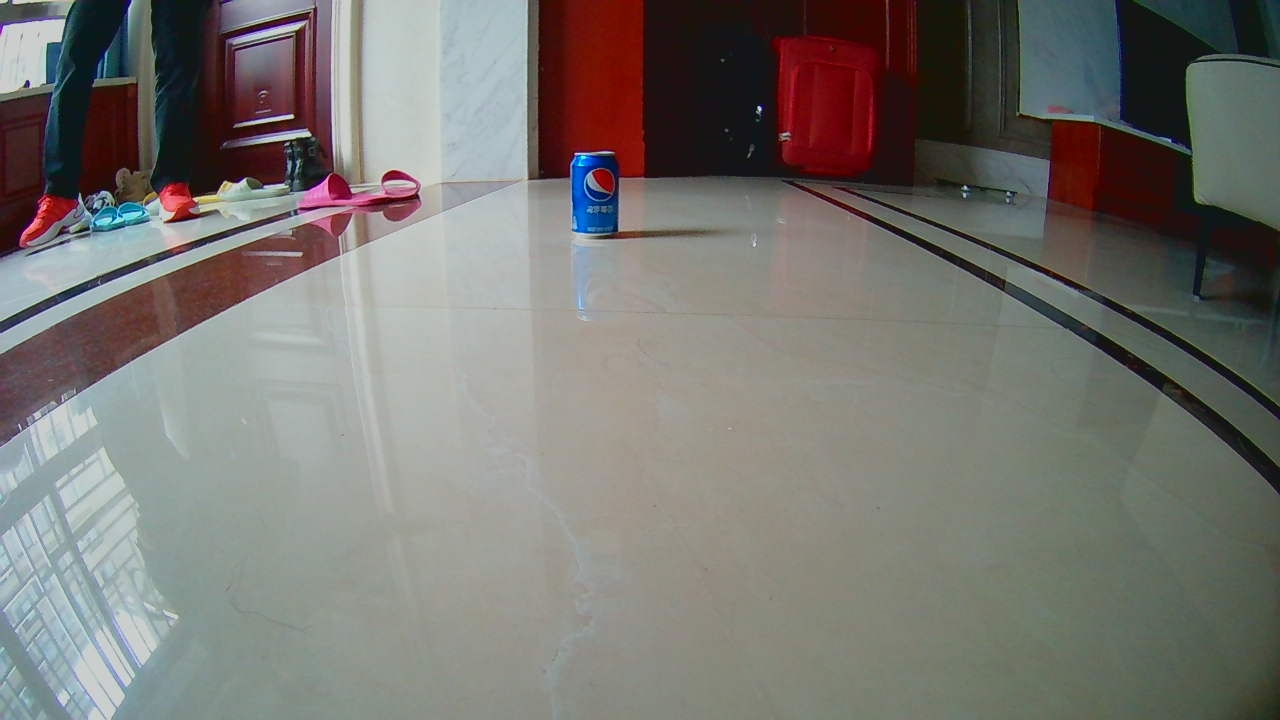pessi: (567, 150, 622, 238)
